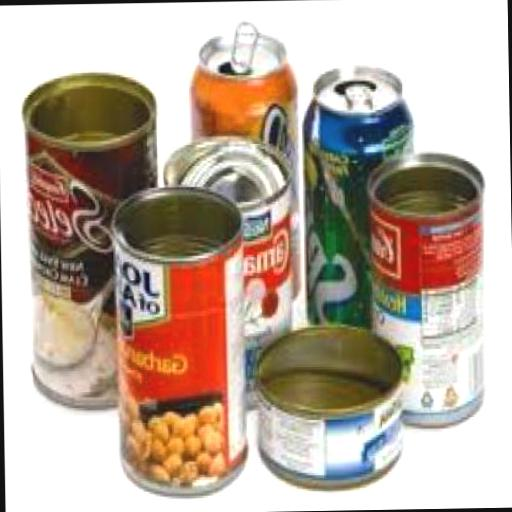metal: (24, 68, 164, 408), (116, 180, 248, 494), (163, 129, 298, 414), (368, 146, 487, 422), (188, 14, 300, 300), (302, 58, 418, 332), (257, 319, 404, 490)
